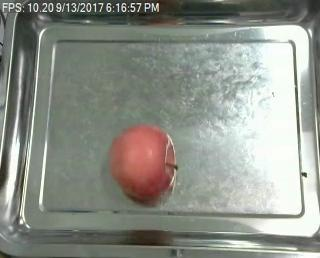apple: (108, 126, 177, 200)
